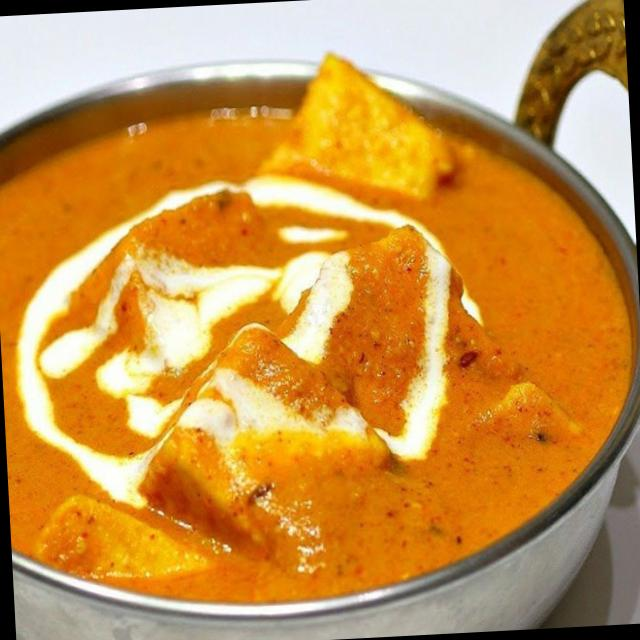ShahiPaneer: (0, 35, 640, 615)
